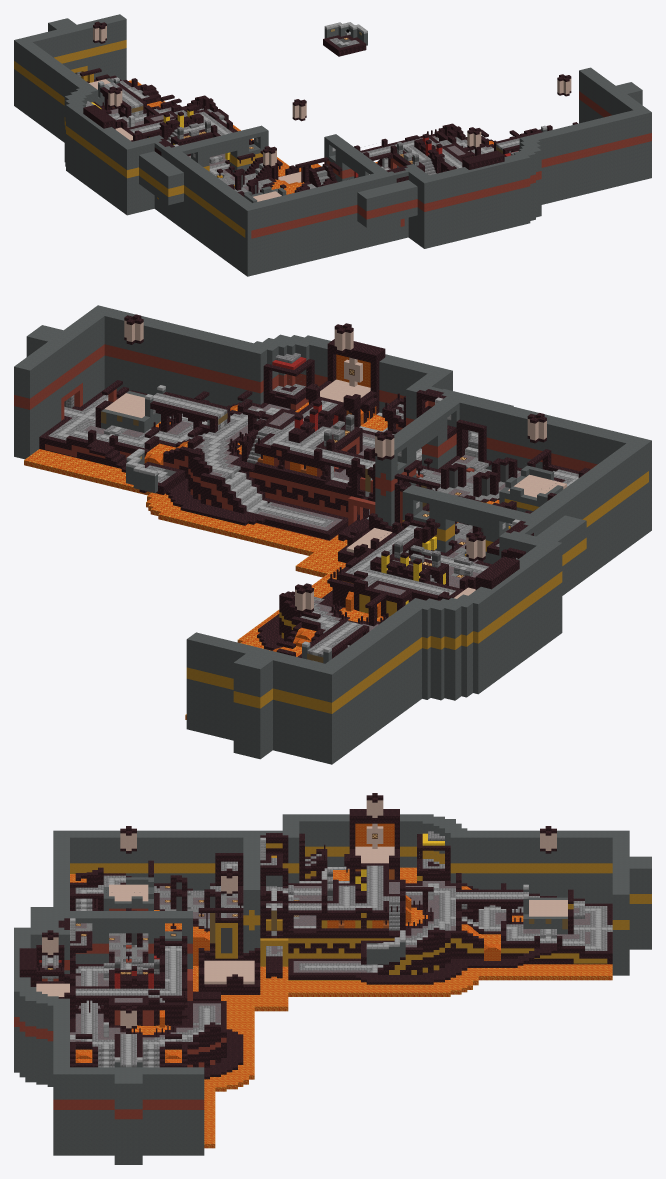
Rendered from minecraft.obj.
The picture shows the model from 3 angles, top to bottom: view 1: azimuth 30°, elevation 25°; view 2: azimuth 150°, elevation 25°; view 3: azimuth 270°, elevation 25°; orthographic projection. The views are drawn at different scales.
Bounding box in the file's own units: 114 × 22.5 × 114.
